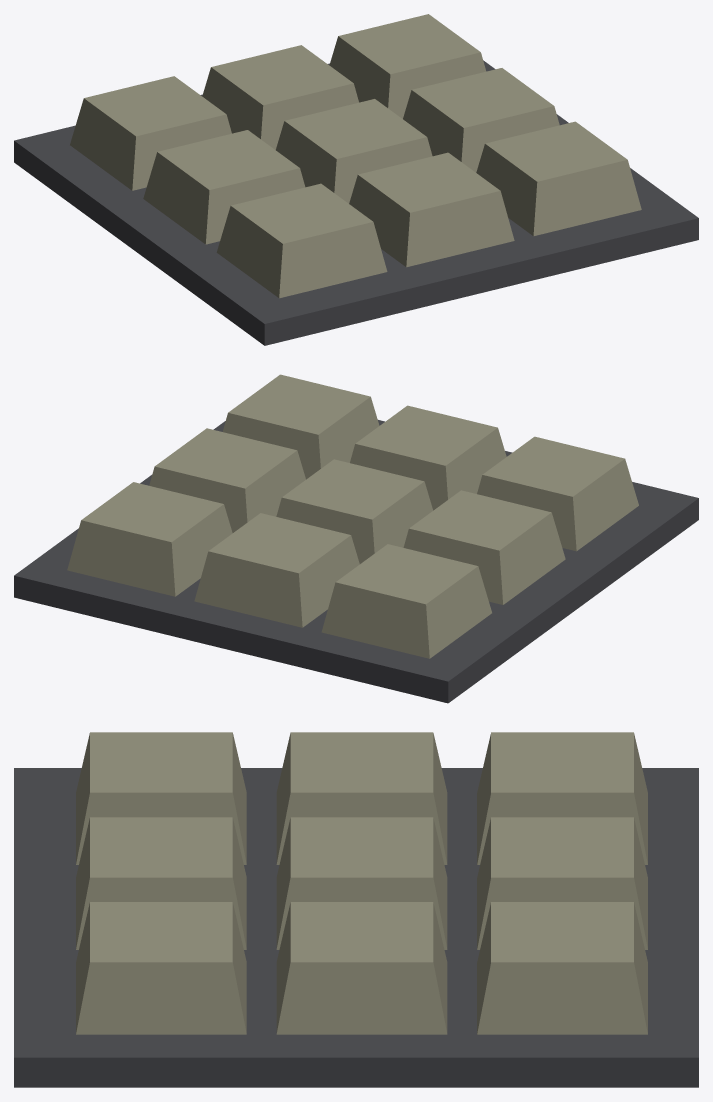
Rendered from SM_Cod_Panel.fbx.
3 views of the same model, one above another, from view 1: azimuth 30°, elevation 25°; view 2: azimuth 150°, elevation 25°; view 3: azimuth 270°, elevation 25° (orthographic). The views are drawn at different scales.
Visible parts, largest first — view 1: Panel, Button7, Button8, Button9, Button1, Button4, Button3, Button2, Button5, Button6; view 2: Panel, Button1, Button3, Button2, Button4, Button7, Button9, Button5, Button6, Button8; view 3: Panel, Button6, Button9, Button3, Button4, Button1, Button7, Button5, Button2, Button8.
Boxes of the visible parts, box(x1,y1,x2,y2) form: Panel: box(14, 60, 698, 345); Button7: box(216, 183, 387, 298); Button8: box(349, 152, 514, 267); Button9: box(476, 121, 641, 236); Button1: box(70, 76, 231, 190); Button4: box(143, 130, 305, 244); Button3: box(329, 14, 486, 118); Button2: box(202, 45, 358, 149); Button5: box(276, 99, 432, 203); Button6: box(403, 68, 559, 172); Panel: box(14, 420, 698, 703); Button1: box(321, 544, 491, 658); Button3: box(67, 482, 232, 596); Button2: box(194, 513, 359, 627); Button4: box(403, 490, 565, 604); Button7: box(477, 436, 638, 551); Button9: box(222, 374, 379, 479); Button5: box(276, 459, 432, 563); Button6: box(149, 428, 305, 532); Button8: box(350, 405, 506, 510); Panel: box(14, 768, 698, 1087); Button6: box(276, 902, 447, 1034); Button9: box(76, 902, 246, 1034); Button3: box(477, 902, 647, 1034); Button4: box(276, 732, 447, 864); Button1: box(477, 732, 647, 864); Button7: box(76, 732, 246, 864); Button5: box(276, 817, 447, 949); Button2: box(477, 817, 647, 949); Button8: box(76, 817, 246, 949).
Size of the model in its own units: 330 by 51.17 by 330.
